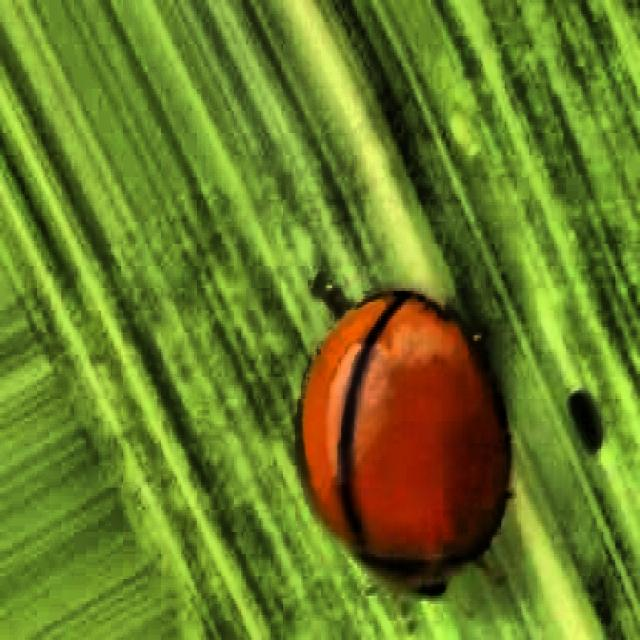Ladybug: (226, 199, 566, 637)
